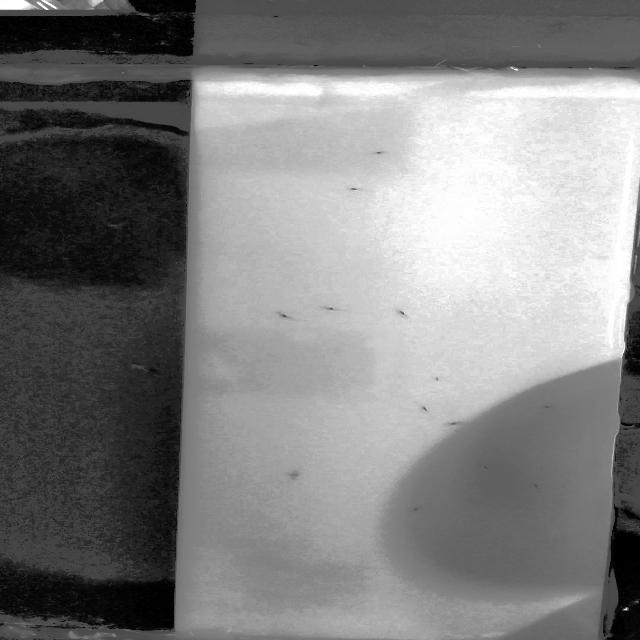shrimp: (289, 468, 319, 485), (386, 307, 419, 321), (439, 417, 470, 429), (428, 374, 456, 386), (274, 312, 300, 324), (318, 304, 352, 312), (530, 480, 549, 494), (536, 402, 560, 412), (420, 400, 437, 414), (340, 185, 365, 194), (408, 503, 427, 514), (479, 461, 495, 473), (370, 148, 389, 156)
